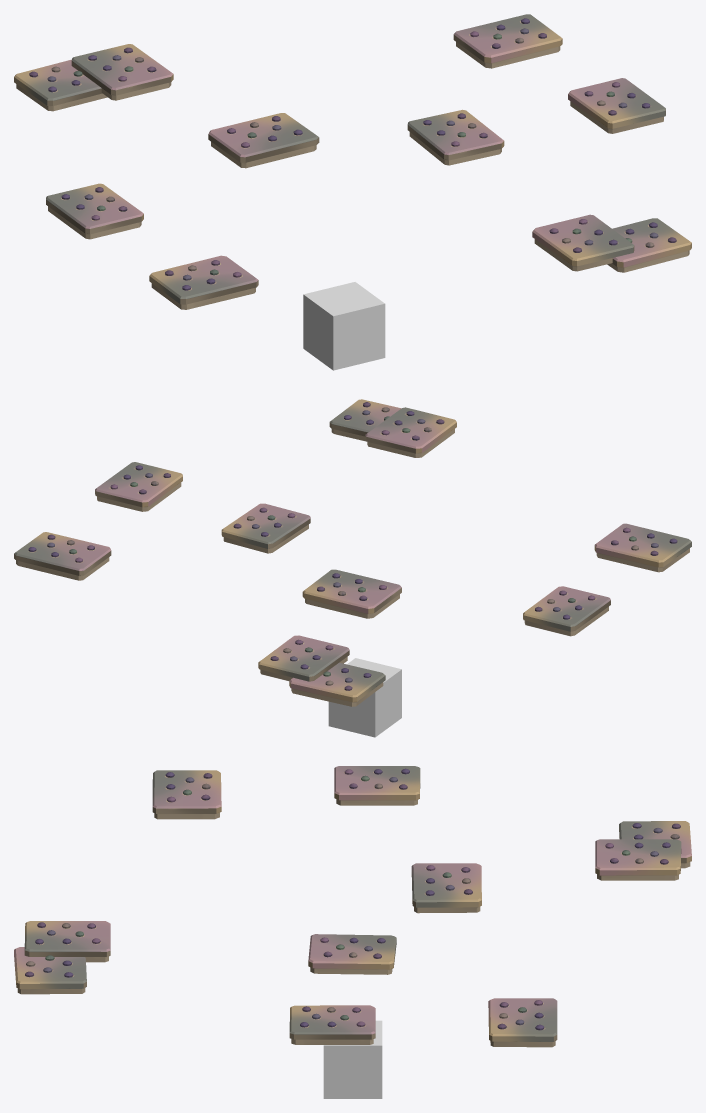
The model's file is battlescence-2-floor001.fbx.
The picture shows the model from 3 angles, top to bottom: view 1: azimuth 30°, elevation 25°; view 2: azimuth 150°, elevation 25°; view 3: azimuth 270°, elevation 25°; orthographic projection. The views are drawn at different scales.
Visible parts, largest first — view 1: battlescence-2-floor001, floor.003, floor.019, floor.004, floor.015, floor.017, floor.020, floor.014, floor.002, floor.018, floor.016; view 2: floor.003, battlescence-2-floor001, floor.004, floor.019, floor.015, floor.002, floor.014, floor.020, floor.017, floor.018, floor.016; view 3: floor.017, floor.003, battlescence-2-floor001, floor.002, floor.019, floor.014, floor.020, floor.004, floor.015, floor.016, floor.018.
Boxes of the visible parts, <box> form: battlescence-2-floor001: <box>303,282,385,370</box>; floor.003: <box>208,113,319,168</box>; floor.019: <box>149,255,258,309</box>; floor.004: <box>453,14,562,68</box>; floor.015: <box>532,214,634,271</box>; floor.017: <box>71,44,173,100</box>; floor.020: <box>46,183,143,239</box>; floor.014: <box>568,78,665,133</box>; floor.002: <box>407,109,504,165</box>; floor.018: <box>14,59,107,111</box>; floor.016: <box>607,218,691,272</box>; floor.003: <box>302,569,401,618</box>; battlescence-2-floor001: <box>328,658,401,737</box>; floor.004: <box>14,532,111,580</box>; floor.019: <box>594,523,691,572</box>; floor.015: <box>365,407,456,457</box>; floor.002: <box>221,503,310,553</box>; floor.014: <box>95,462,182,511</box>; floor.020: <box>523,586,610,636</box>; floor.017: <box>258,635,349,681</box>; floor.018: <box>289,662,385,706</box>; floor.016: <box>329,399,401,441</box>; floor.017: <box>595,839,681,880</box>; floor.003: <box>411,863,481,913</box>; battlescence-2-floor001: <box>323,1020,382,1098</box>; floor.002: <box>308,934,396,974</box>; floor.019: <box>152,770,221,819</box>; floor.014: <box>289,1005,375,1044</box>; floor.020: <box>334,766,420,805</box>; floor.004: <box>488,998,557,1047</box>; floor.015: <box>24,921,110,962</box>; floor.016: <box>14,947,86,994</box>; floor.018: <box>619,821,691,868</box>.
Size of the model in its own units: 2153 by 748 by 2305.
